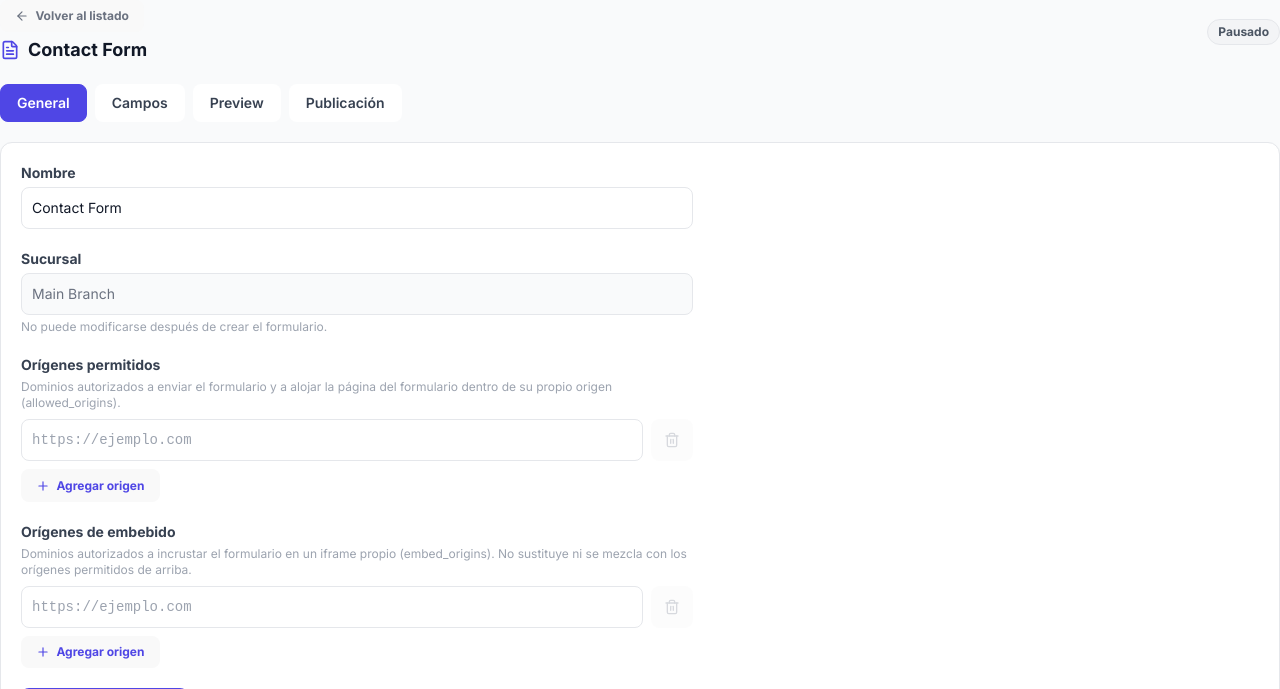
Test: PublicLeadFormConfigShell — tabs and deep-linking › clicking the Publicación tab navigates there and renders PublishDeliveryPanel content
Expected: the tab "General" is shown, [0,84,87,122]
Click the tab "Publicación" at (345, 103), box [289,84,402,122]
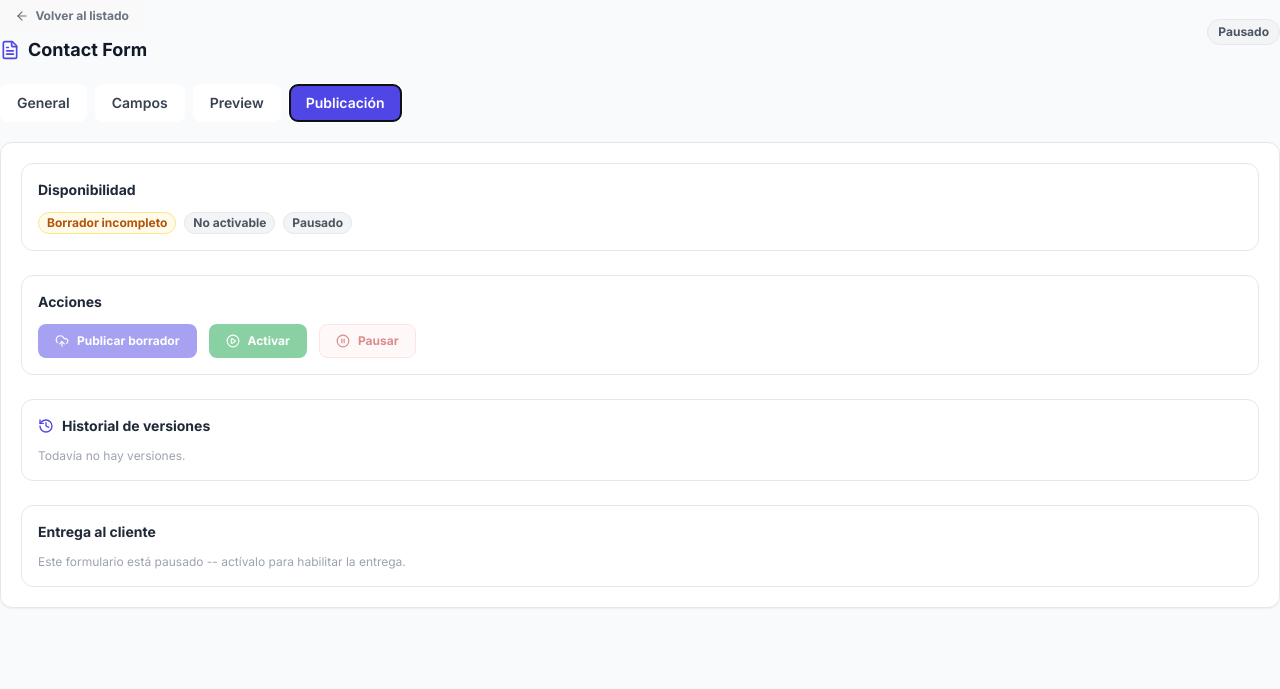
Expected: the heading "Acciones" is shown, [38,293,102,310]
